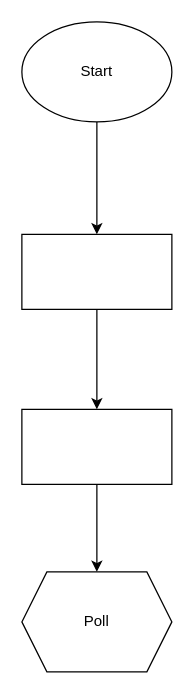
Image size: 194x694. Some labels were removed from this diagram. The shapes that lost their labels are listed below. From the top down, each one's centre as x and y in pixels, then its label:
At (96,271): "Initialize peripherals".
At (96,446): "Initialize Protocol Stack".
